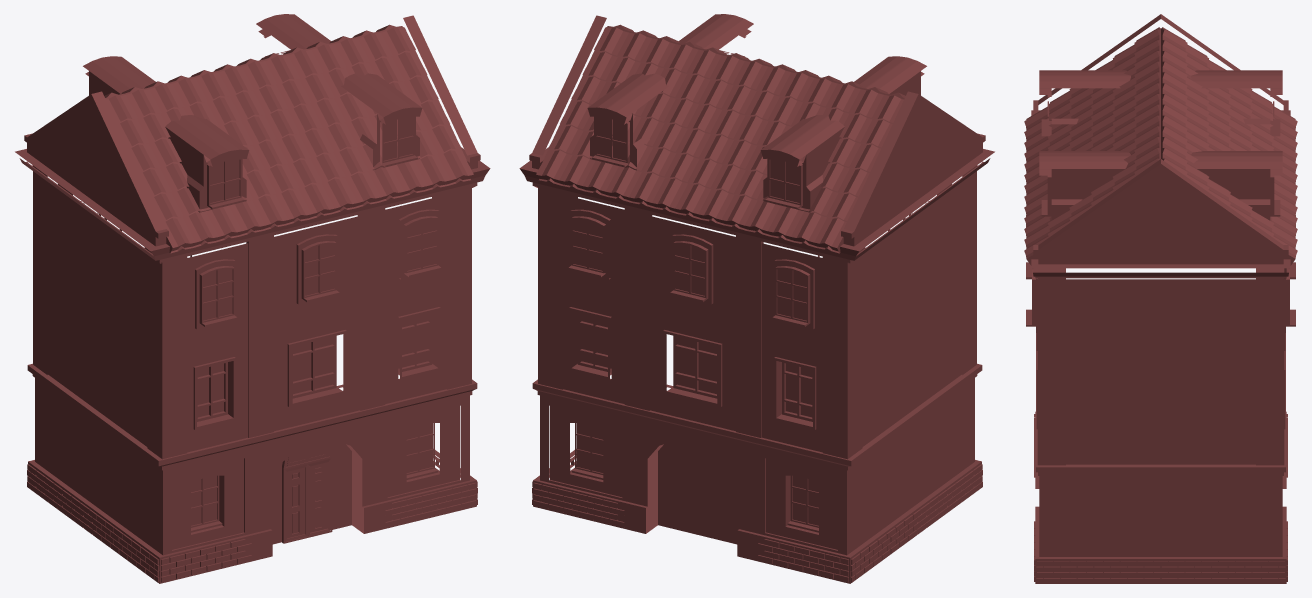
File: housing-extra-townhouse-c.glb
The picture shows the model from 3 angles, left to right: view 1: azimuth 30°, elevation 25°; view 2: azimuth 150°, elevation 25°; view 3: azimuth 270°, elevation 25°; orthographic projection. The views are drawn at different scales.
Parts seen in each view (by area): view 1: Building1_Small; view 2: Building1_Small; view 3: Building1_Small.
Part boxes in pixels (bbox=[...]): Building1_Small: bbox=[15, 14, 490, 583]; Building1_Small: bbox=[519, 14, 994, 583]; Building1_Small: bbox=[1024, 14, 1297, 583].
Bounding box in the file's own units: 0.8036 × 1 × 0.5883.
